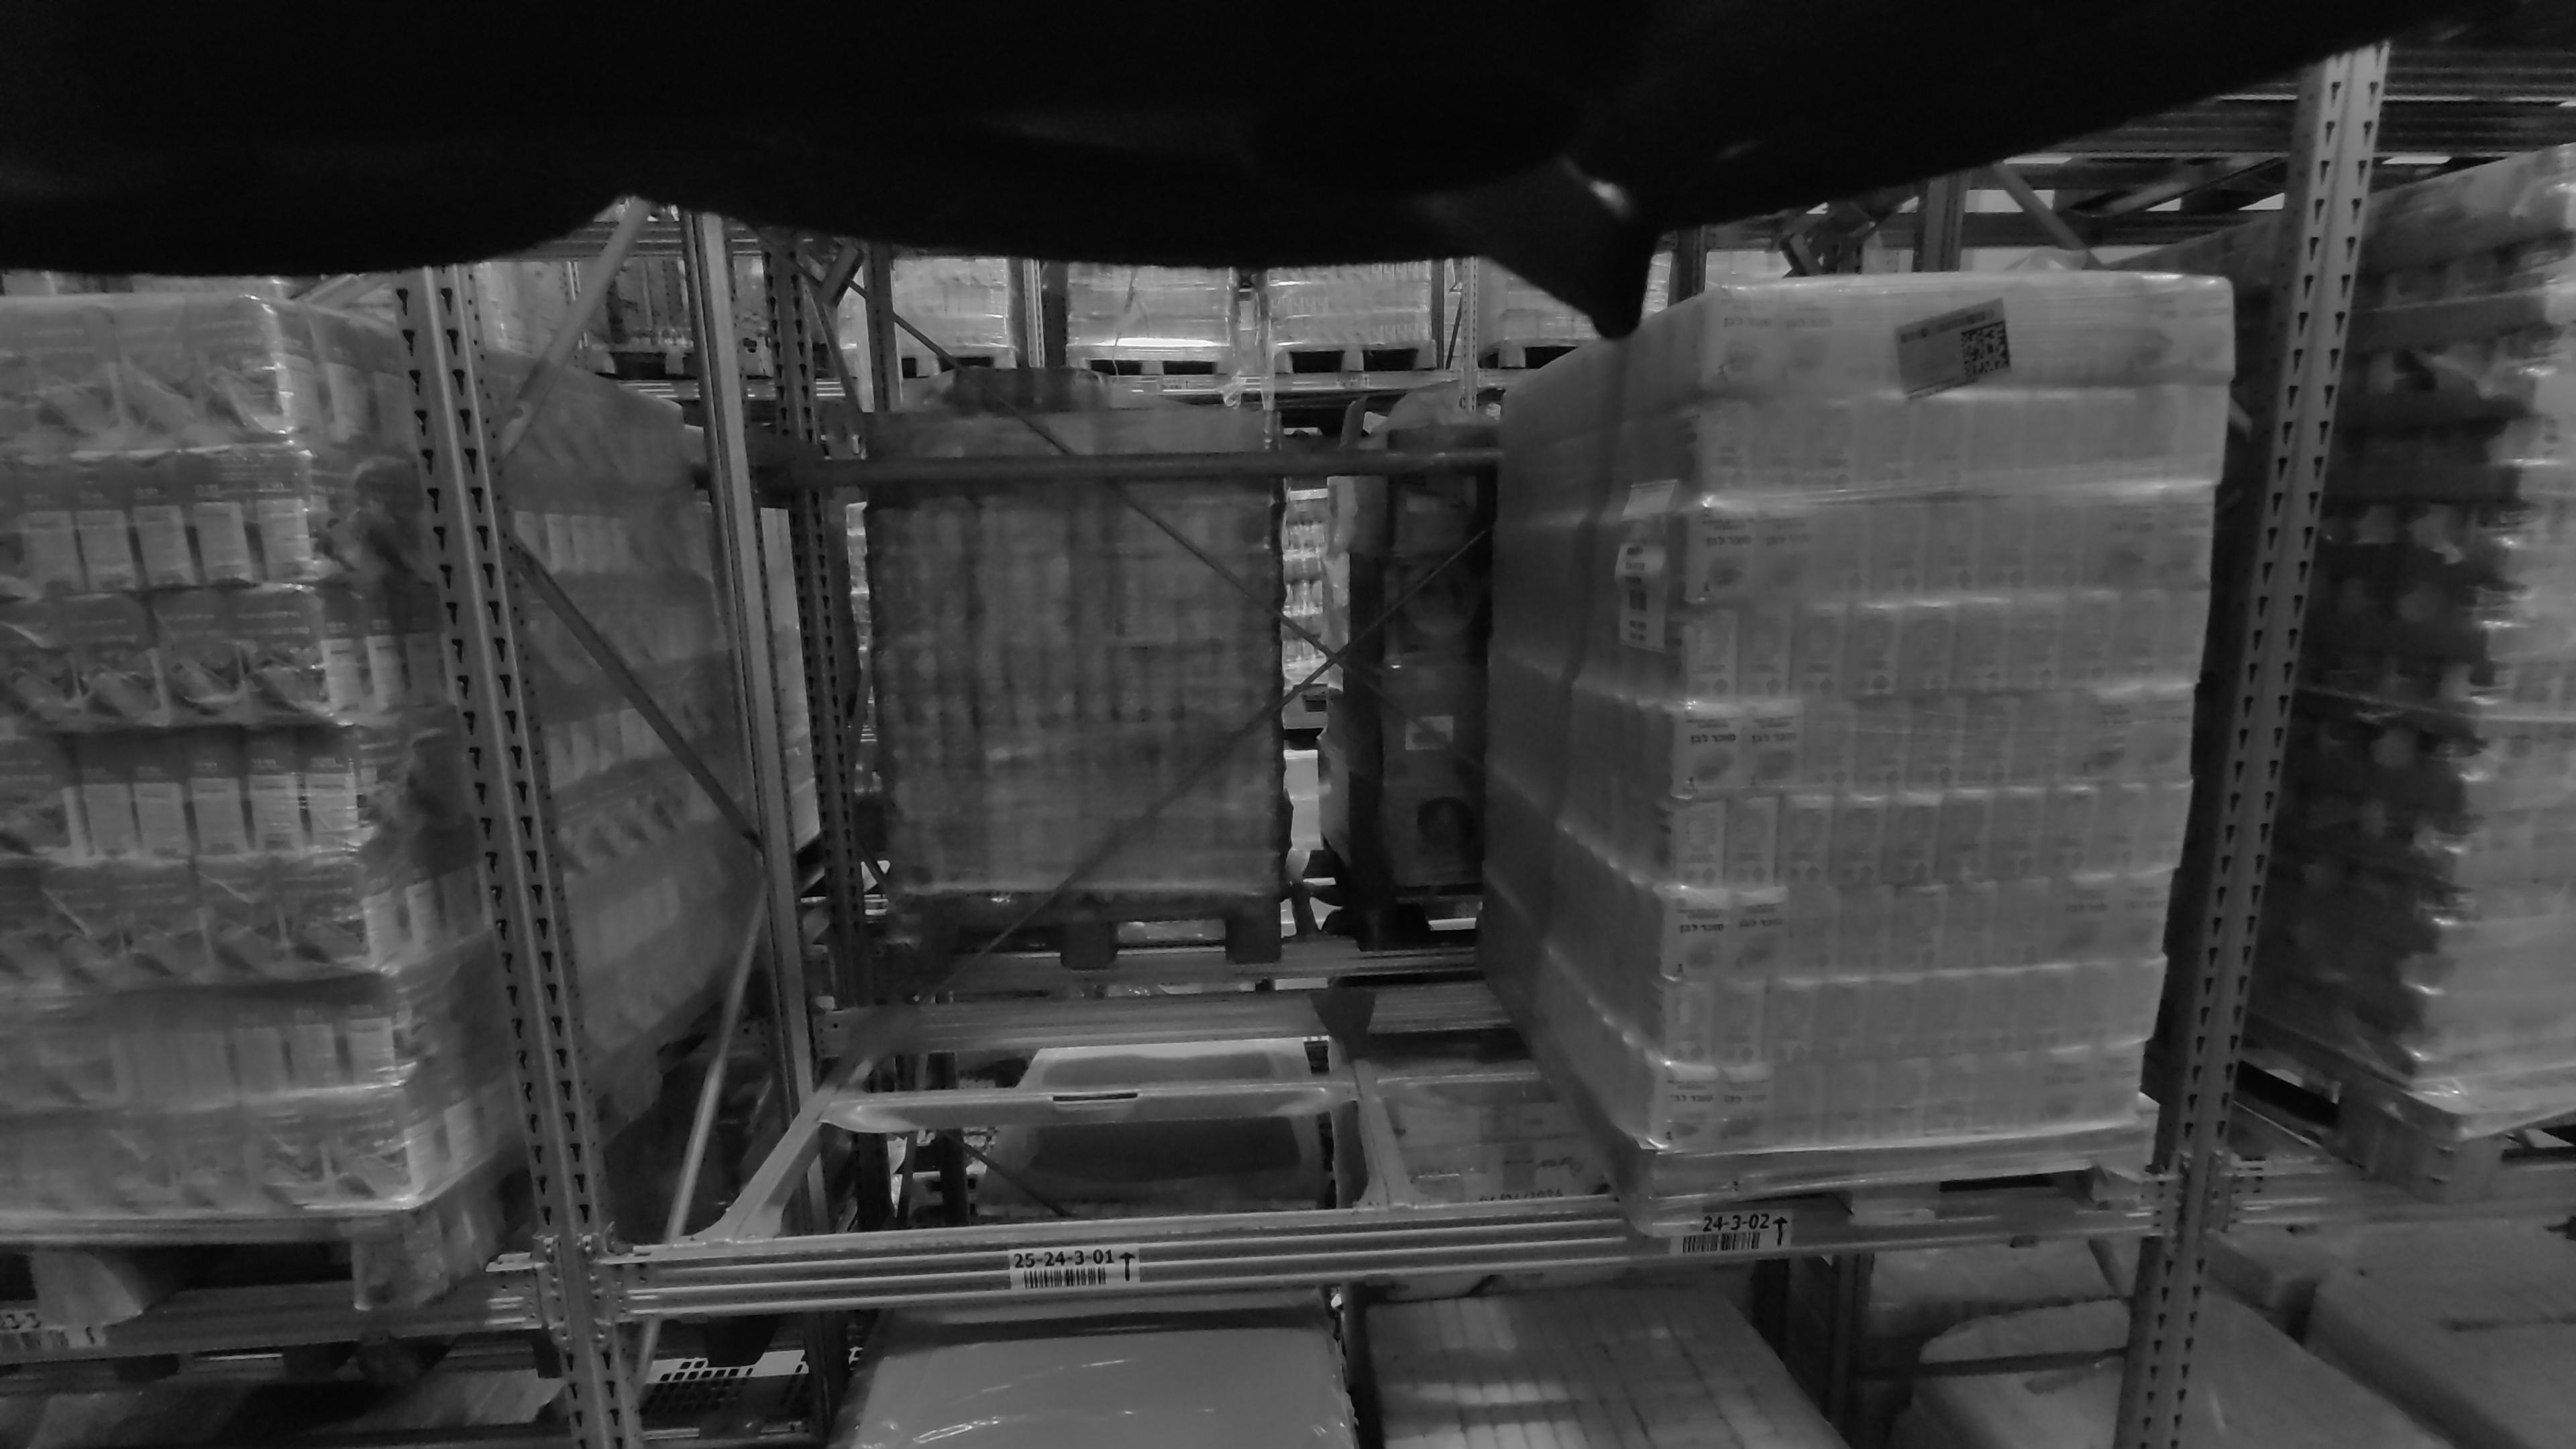empty-shelf: (720, 246, 1387, 1205)
